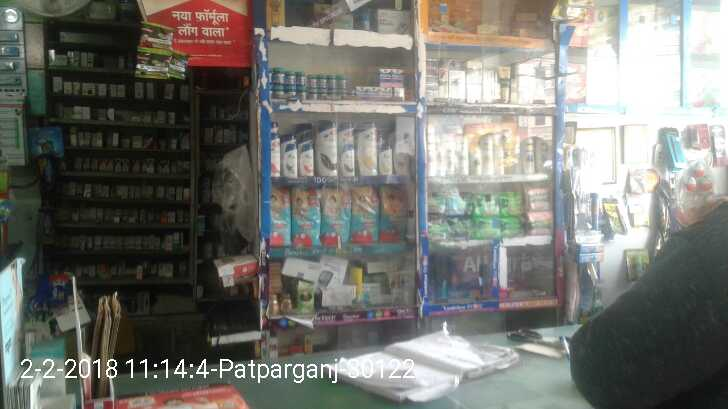beauty: (314, 118, 340, 178), (353, 122, 380, 175), (491, 65, 513, 106), (281, 138, 301, 178), (295, 141, 315, 176), (438, 133, 455, 174), (523, 132, 537, 175), (336, 142, 353, 176), (454, 133, 468, 173), (427, 131, 440, 173), (271, 130, 283, 174), (481, 131, 493, 174), (494, 145, 507, 178)
pharmacy: (317, 185, 352, 245), (292, 185, 317, 251), (379, 182, 405, 245), (354, 185, 378, 244), (426, 188, 473, 214), (273, 187, 291, 245), (526, 203, 555, 238), (470, 215, 503, 239), (498, 213, 527, 236), (474, 190, 499, 213), (499, 190, 523, 212), (526, 188, 549, 210), (391, 67, 406, 88), (379, 66, 390, 88), (270, 66, 284, 83), (326, 69, 336, 88), (337, 75, 348, 92), (297, 70, 307, 86), (310, 73, 318, 88), (318, 72, 326, 87)
